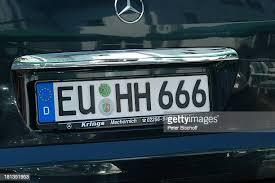6: (190, 78, 207, 110), (175, 80, 192, 110), (157, 81, 174, 111)
E: (57, 84, 77, 116)
H: (133, 80, 154, 113), (114, 82, 133, 113)
U: (77, 85, 98, 115)
